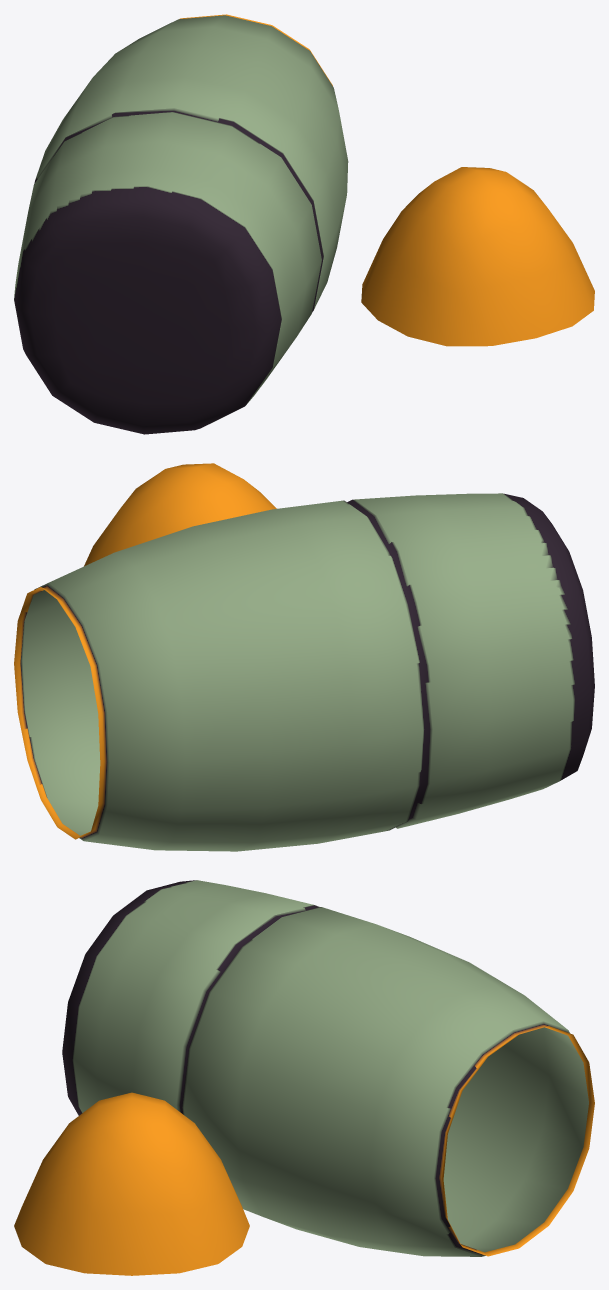
File: Missile_Casing_1.glb
The picture shows the model from 3 angles, top to bottom: view 1: azimuth 30°, elevation 25°; view 2: azimuth 150°, elevation 25°; view 3: azimuth 270°, elevation 25°; orthographic projection. The views are drawn at different scales.
Visible parts, largest first — view 1: Canister; view 2: Canister; view 3: Canister.
Part boxes in pixels (x1,y1,x2,y2): Canister: (14,14,594,434); Canister: (14,463,594,851); Canister: (14,880,594,1275).
Bounding box in the file's own units: 0.8664 × 0.4501 × 0.8343.
Materials: 1 (1 with a texture image).
